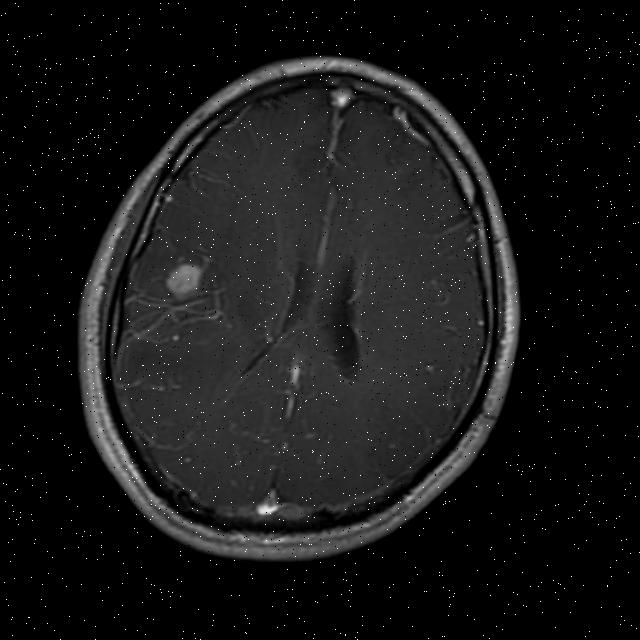Glioma: (162, 258, 206, 300)
